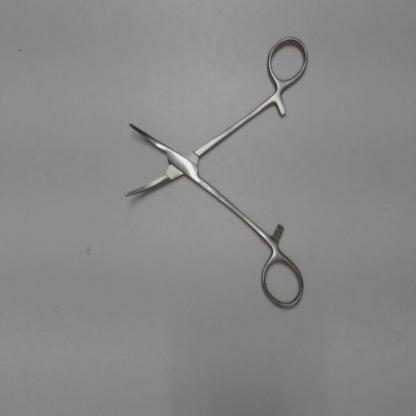Crile Artery Forceps: (114, 28, 310, 316)
